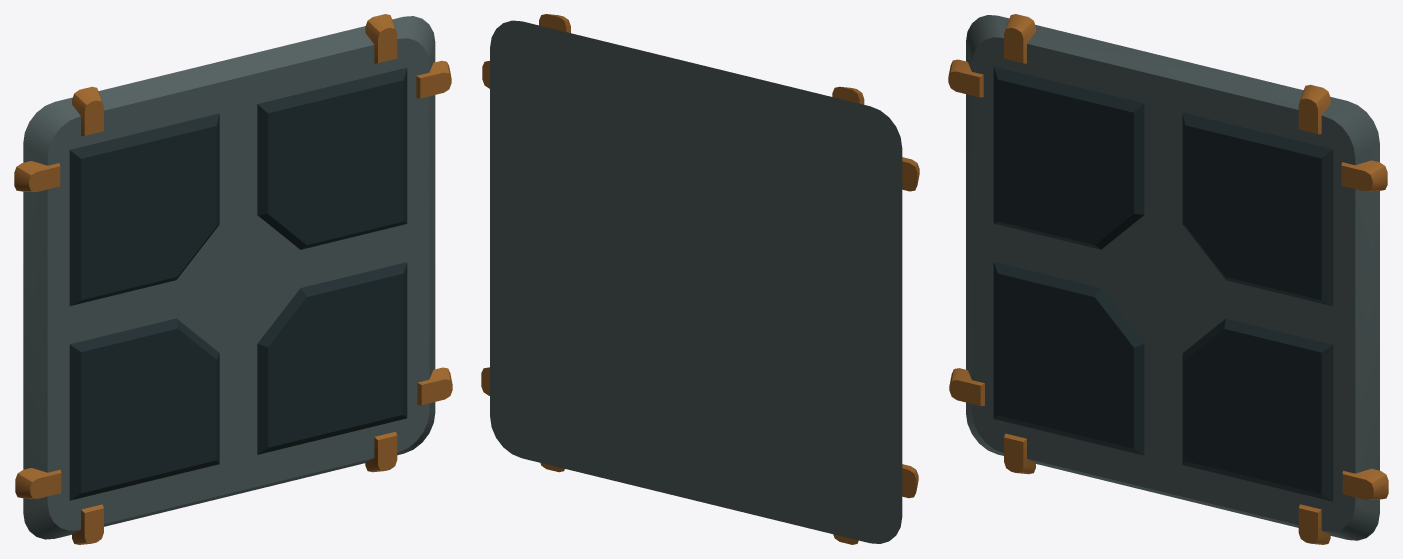
File: Details_Plate_Details.obj
The picture shows the model from 3 angles, left to right: view 1: azimuth 30°, elevation 25°; view 2: azimuth 150°, elevation 25°; view 3: azimuth 330°, elevation 25°; orthographic projection.
Parts seen in each view (by area): view 1: Details_Plate_Details; view 2: Details_Plate_Details; view 3: Details_Plate_Details.
Boxes of the visible parts, bbox=[...] form: Details_Plate_Details: bbox=[14, 14, 452, 544]; Details_Plate_Details: bbox=[481, 14, 919, 544]; Details_Plate_Details: bbox=[948, 14, 1388, 544].
Bounding box in the file's own units: 0.6199 × 0.6199 × 0.0321.
